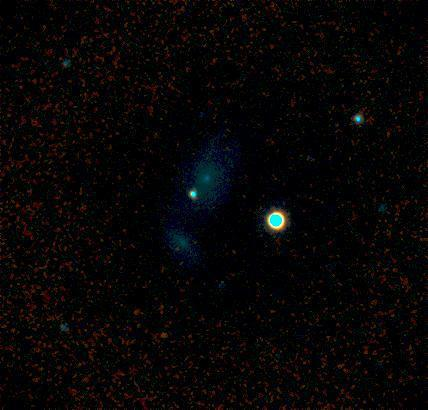star: (151, 319, 181, 349)
